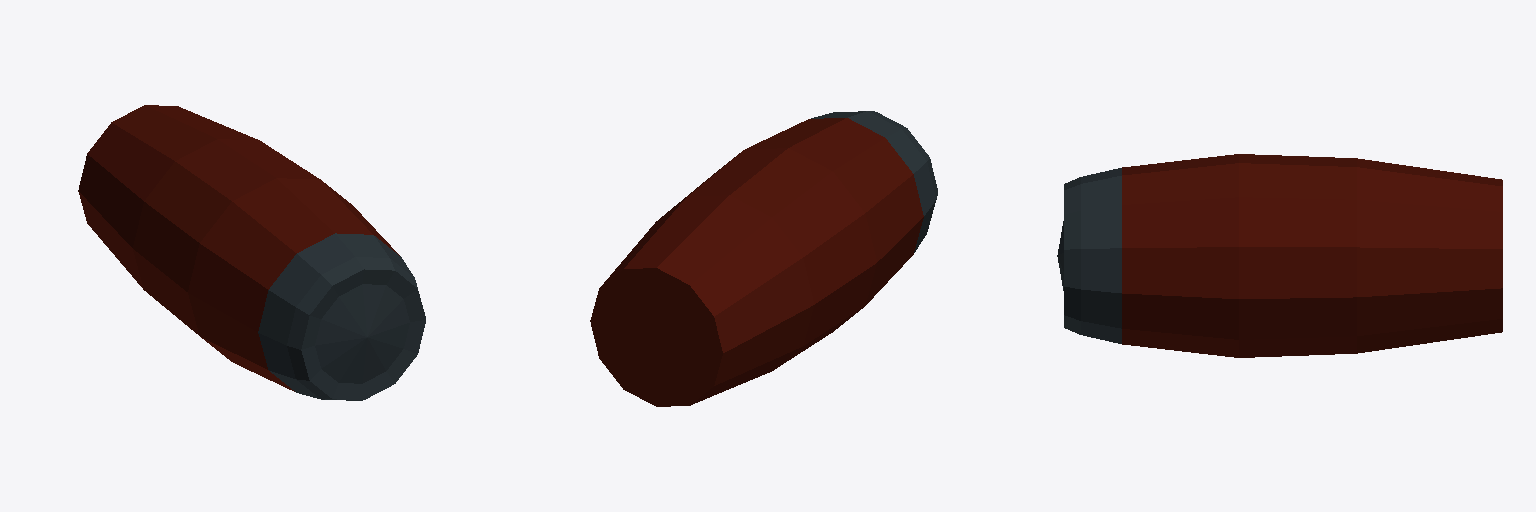
File: cigar.obj
3 views of the same model, side by side, from view 1: azimuth 30°, elevation 25°; view 2: azimuth 150°, elevation 25°; view 3: azimuth 270°, elevation 25° (orthographic).
Visible parts, largest first — view 1: cigar_Cube.001; view 2: cigar_Cube.001; view 3: cigar_Cube.001.
Part boxes in pixels (bbox=[...]): cigar_Cube.001: bbox=[78, 105, 425, 400]; cigar_Cube.001: bbox=[590, 111, 937, 406]; cigar_Cube.001: bbox=[1057, 154, 1502, 357].
Size of the model in its own units: 0.126 by 0.126 by 0.2736.